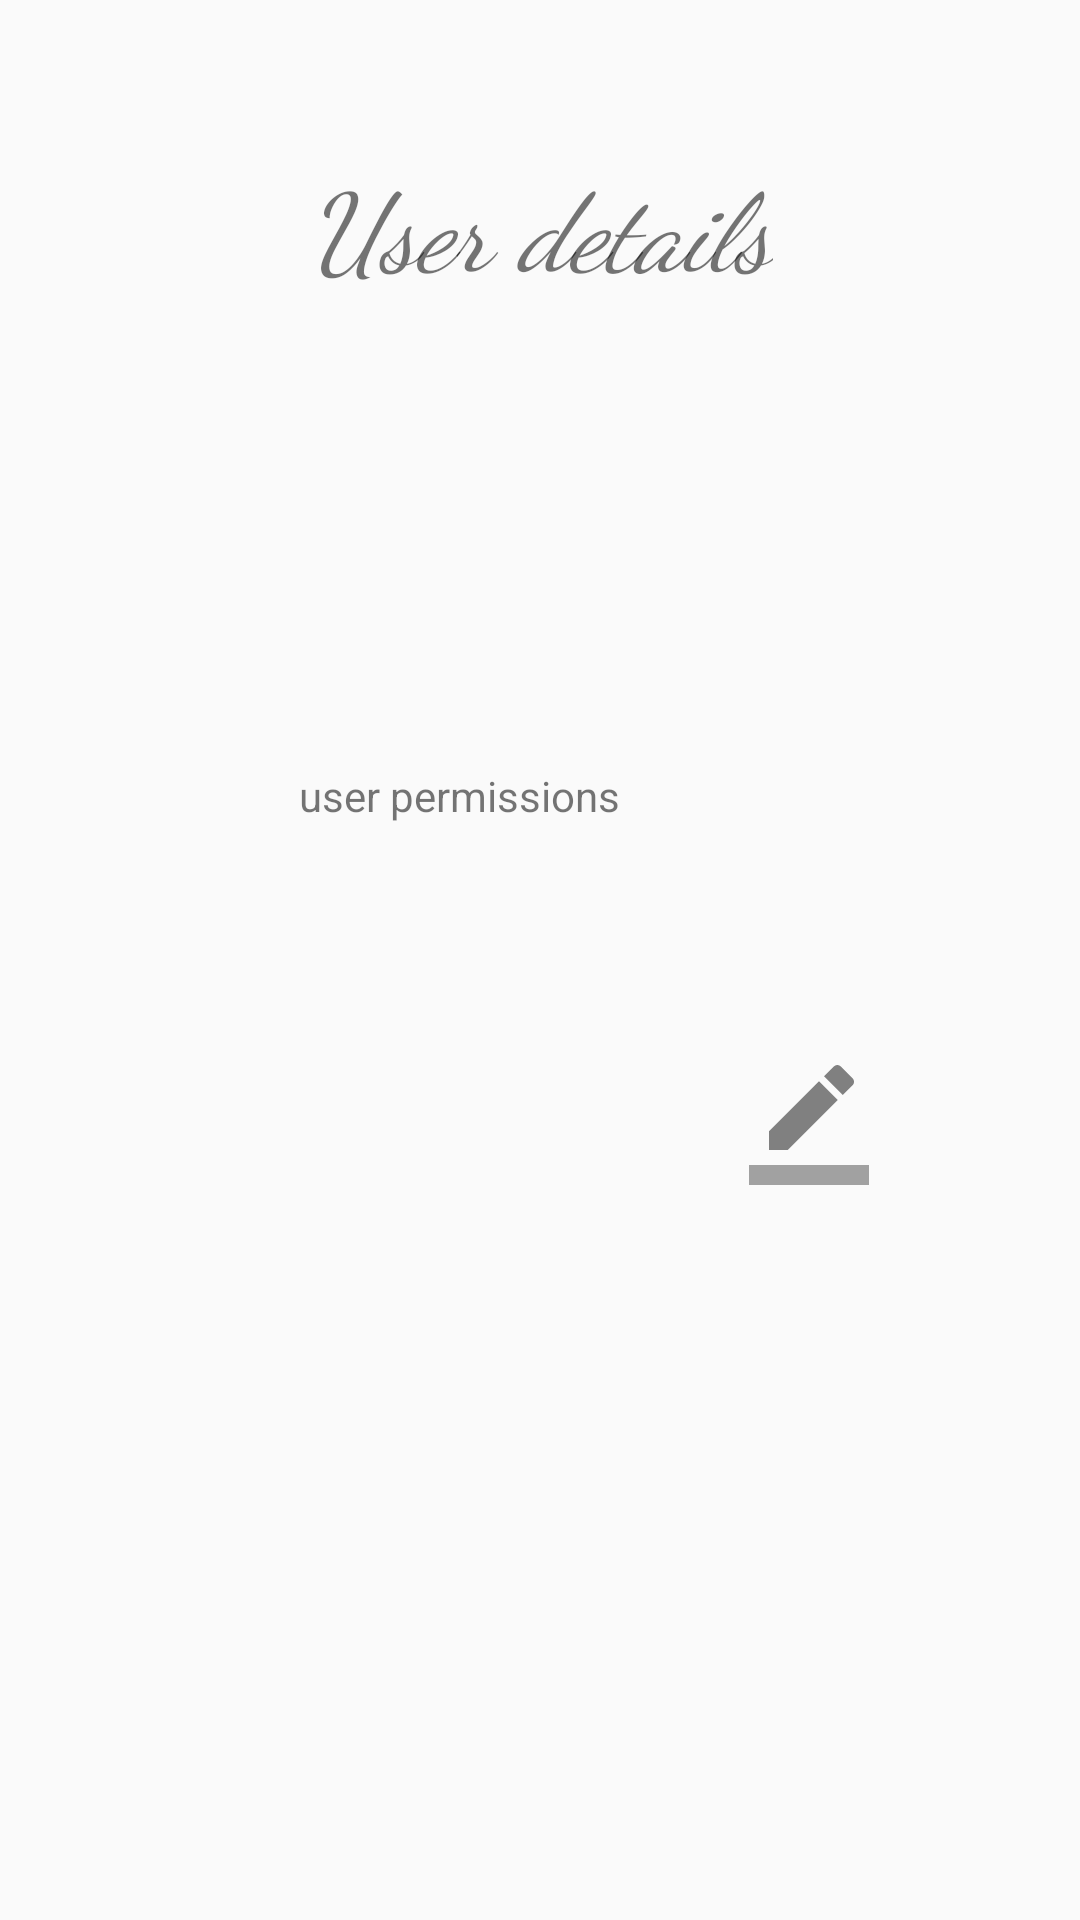

Icon click points for this 1080 x 1920 phone screenshot, format [x,y]:
change: [809,1125]
